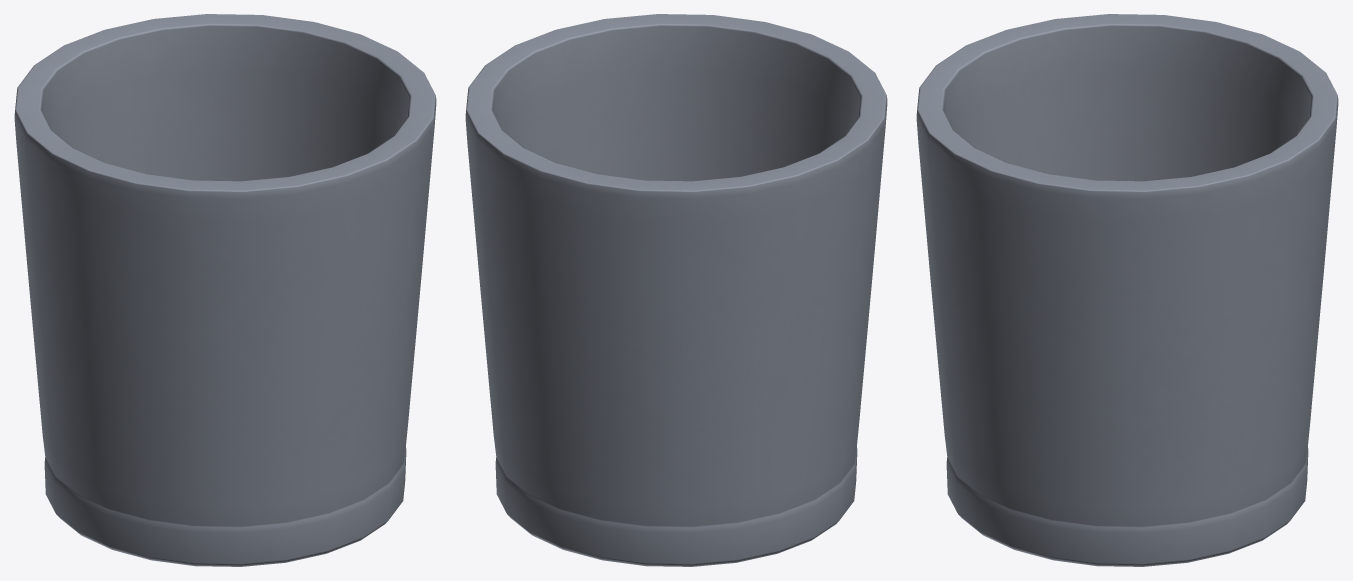
The model's file is Vaso.fbx.
The picture shows the model from 3 angles, left to right: view 1: azimuth 30°, elevation 25°; view 2: azimuth 150°, elevation 25°; view 3: azimuth 270°, elevation 25°; orthographic projection.
Parts seen in each view (by area): view 1: Mesh4; view 2: Mesh4; view 3: Mesh4.
Part boxes in pixels (<box>): Mesh4: <box>14,14,436,566</box>; Mesh4: <box>465,14,887,566</box>; Mesh4: <box>916,14,1338,566</box>.
Bounding box in the file's own units: 0.9846 × 1.01 × 0.9846.
